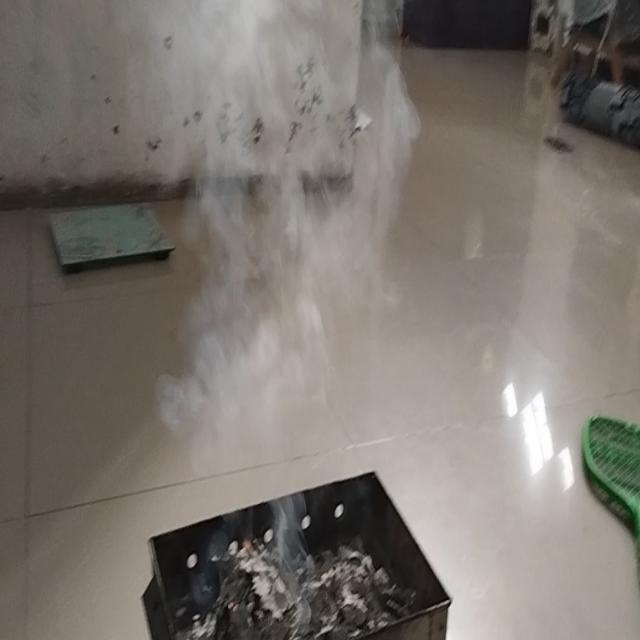smoke: (107, 0, 422, 255), (122, 272, 350, 575)
